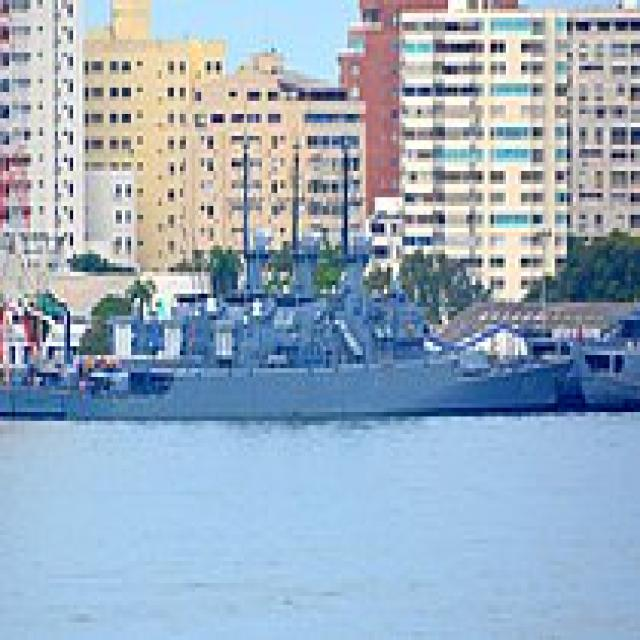Warship: (0, 127, 573, 417)
